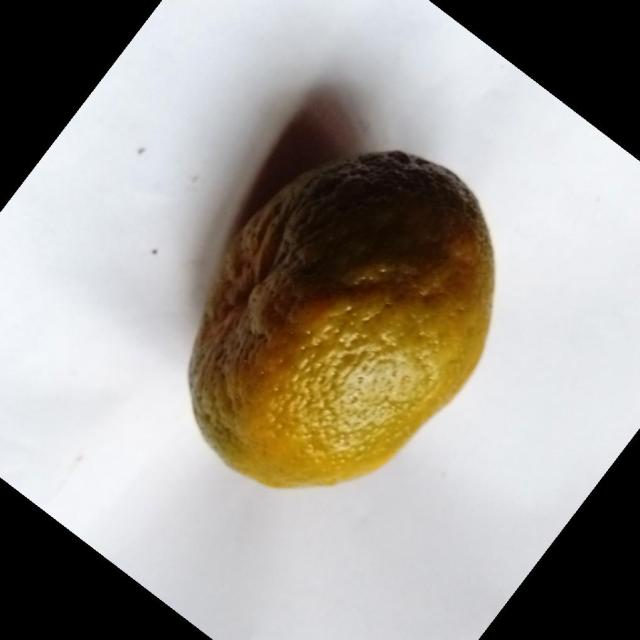fresh orange: (187, 148, 496, 489)
